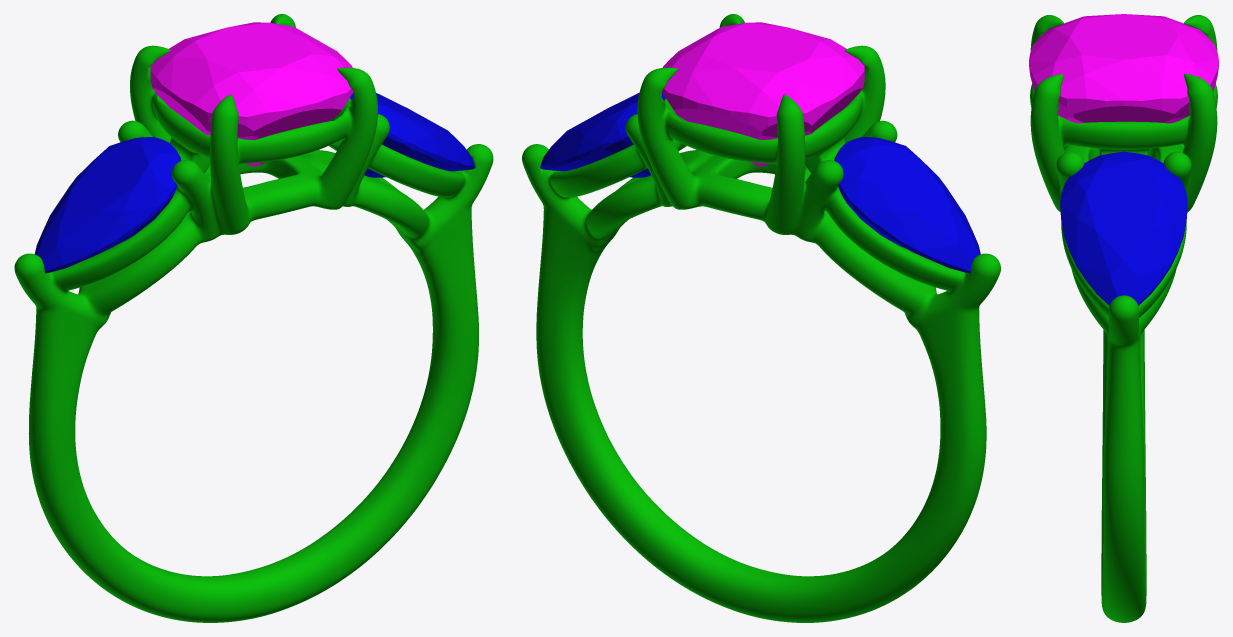
The model's file is BE1D1498_CU_200ct_RENDER.glb.
3 views of the same model, side by side, from view 1: azimuth 30°, elevation 25°; view 2: azimuth 150°, elevation 25°; view 3: azimuth 270°, elevation 25° (orthographic).
Visible parts, largest first — view 1: Metal 01, CS_Diamond_Cushion, Diamond_Pear_side, Diamond_Pear_side.001; view 2: Metal 01, CS_Diamond_Cushion, Diamond_Pear_side, Diamond_Pear_side.001; view 3: Metal 01, CS_Diamond_Cushion, Diamond_Pear_side.001.
Boxes of the visible parts, <box> form: Metal 01: <box>14,14,493,622</box>; CS_Diamond_Cushion: <box>150,22,353,166</box>; Diamond_Pear_side: <box>34,136,181,273</box>; Diamond_Pear_side.001: <box>350,93,475,177</box>; Metal 01: <box>522,14,1000,622</box>; CS_Diamond_Cushion: <box>662,22,864,166</box>; Diamond_Pear_side: <box>834,137,980,273</box>; Diamond_Pear_side.001: <box>540,92,665,177</box>; Metal 01: <box>1030,15,1217,622</box>; CS_Diamond_Cushion: <box>1029,14,1218,123</box>; Diamond_Pear_side.001: <box>1060,151,1187,305</box>.
Size of the model in its own units: 21.49 by 24.52 by 7.5.
